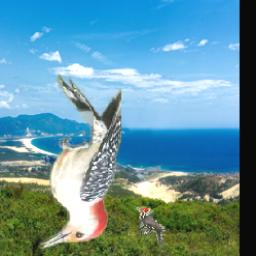Woodpecker: (35, 75, 121, 249), (135, 206, 167, 248)
